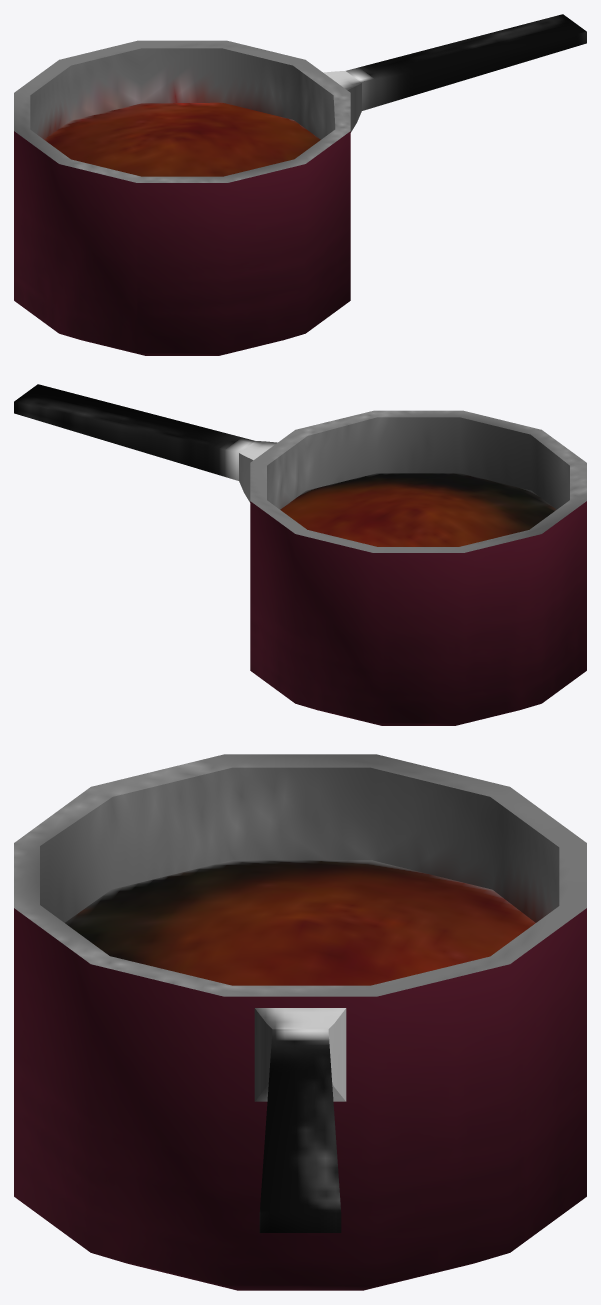
Rendered from SmokeyBBQSauceBase.fbx.
3 views of the same model, one above another, from view 1: azimuth 30°, elevation 25°; view 2: azimuth 150°, elevation 25°; view 3: azimuth 270°, elevation 25° (orthographic). The views are drawn at different scales.
Parts seen in each view (by area): view 1: SmokeyBBQSauceBase; view 2: SmokeyBBQSauceBase; view 3: SmokeyBBQSauceBase.
Part boxes in pixels (<box>): SmokeyBBQSauceBase: <box>14,14,586,355</box>; SmokeyBBQSauceBase: <box>14,384,586,725</box>; SmokeyBBQSauceBase: <box>14,754,586,1290</box>.
Size of the model in its own units: 0.6076 by 0.1998 by 0.3291.
